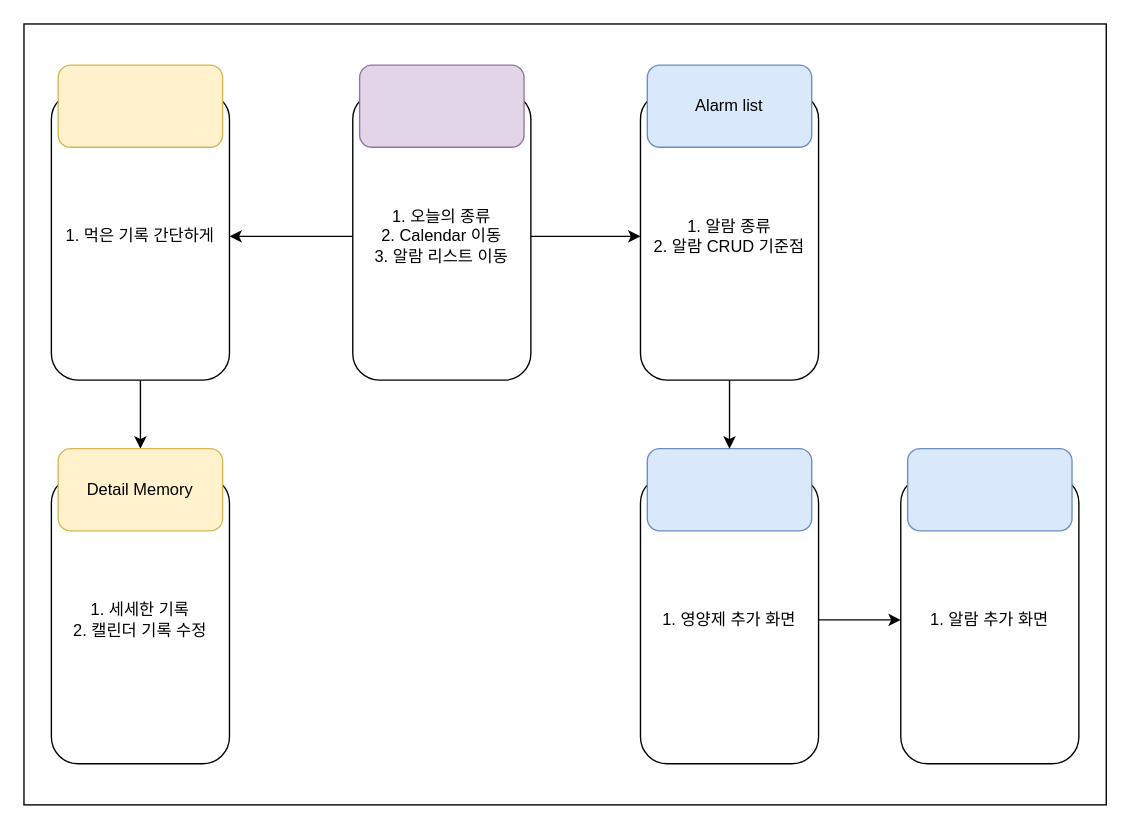
Image size: 1130x829. Some labels were removed from this diagram. Here are the shapes that lost their labels. From the top down, the centre of each, then its label:
At point 140,105: "Calendar".
At point 441,105: "Home(Main)".
At point 729,489: "Add potion".
At point 989,489: "Add alarm".
